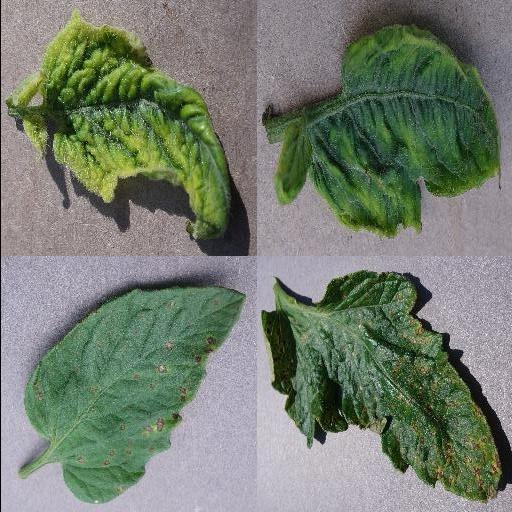Septoria: (259, 271, 499, 502), (22, 287, 246, 506)
Yellow Leaf Curl Virus: (271, 25, 503, 241), (23, 10, 231, 242)
